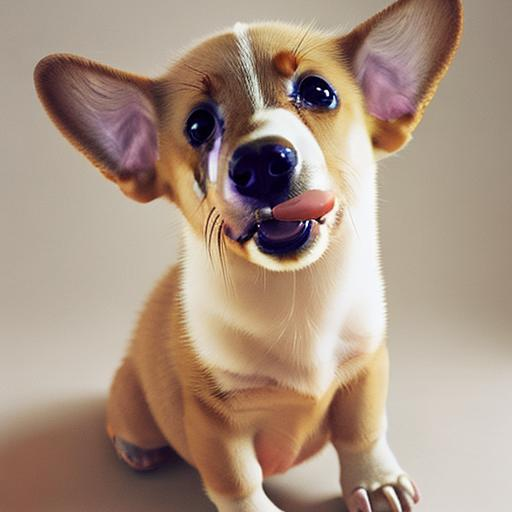eye: (173, 100, 235, 144), (290, 74, 346, 116)
